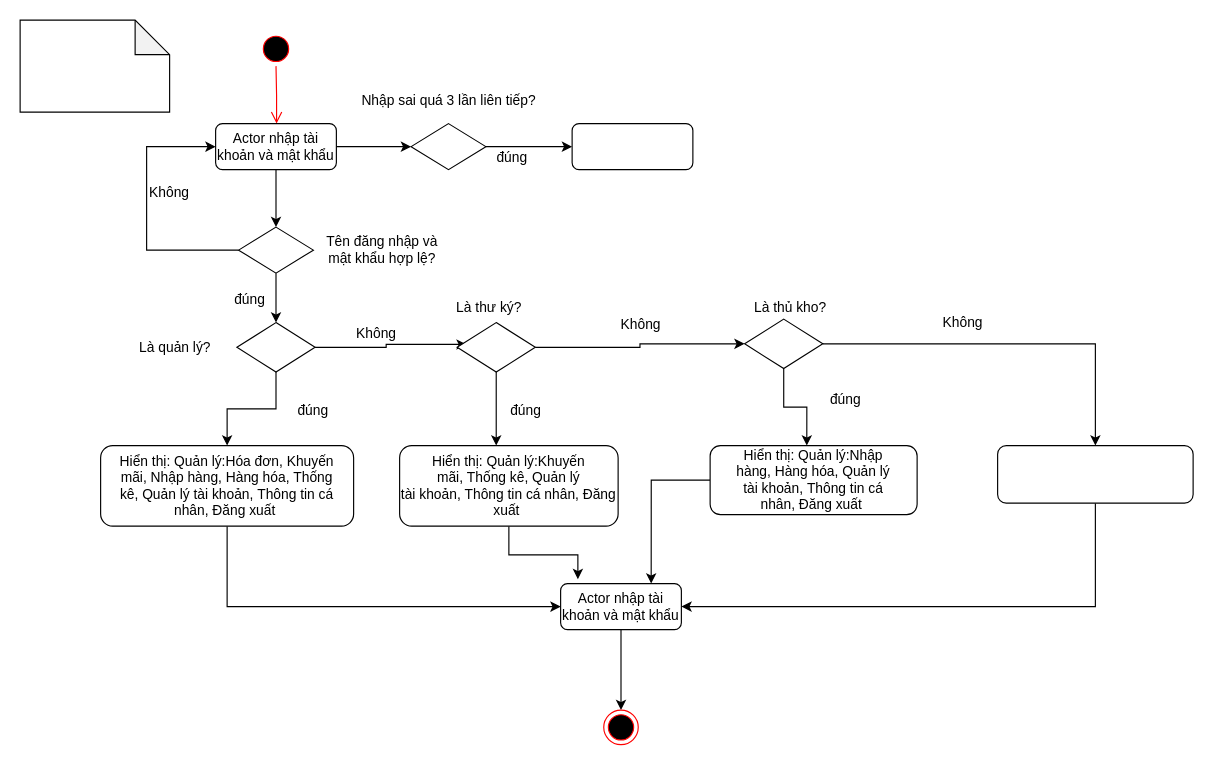
Image size: 1213x765. Some labels were removed from this diagram. The shapes that lost their labels are listed below. From the top down, each one's box as (x1, y1, x2, y2) in pixels, then its label:
(19, 19, 170, 112): Xác thực đăng nhập
(571, 122, 693, 170): Quên mật khẩu
(996, 444, 1193, 503): Hiển thị: Quản lý: Hóa đơn, Thông tin cá nhân, Đăng xuất
